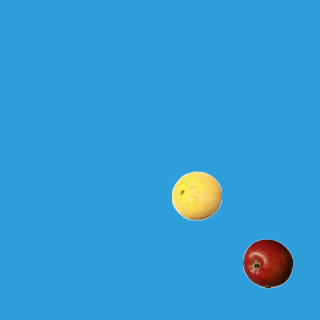Apple Braeburn: (242, 238, 292, 288)
Cantaloupe 1: (171, 170, 221, 220)
